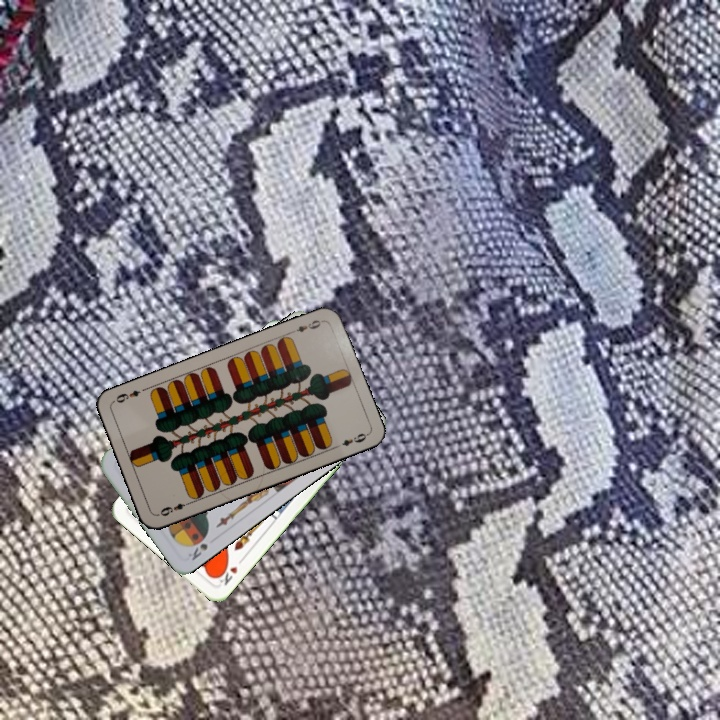E9: (286, 316, 326, 336), (156, 498, 194, 519)
HK: (213, 560, 240, 588)
SK: (184, 539, 210, 563)
